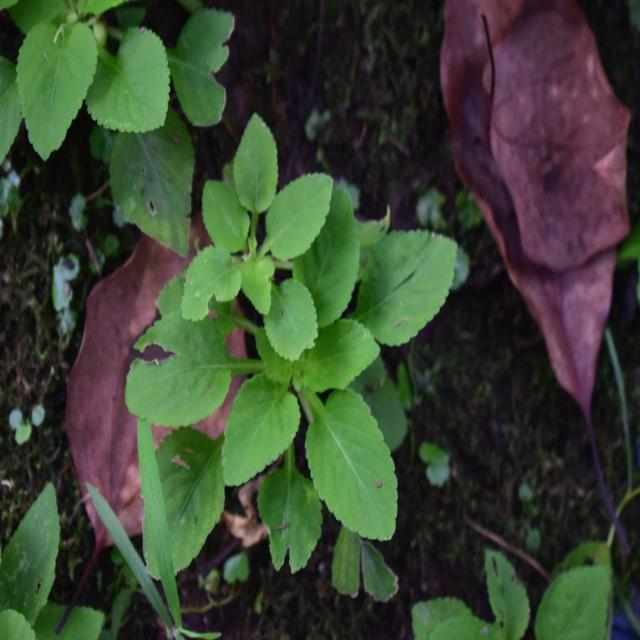Viola: (142, 136, 444, 530)
